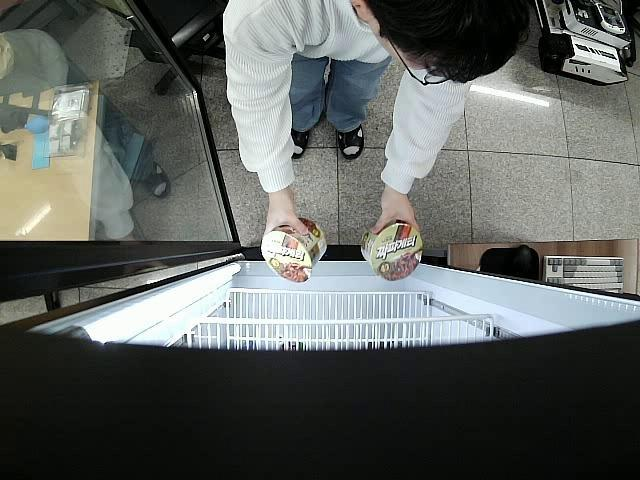03_chapagetti_L: (260, 217, 328, 284), (360, 220, 423, 280)
